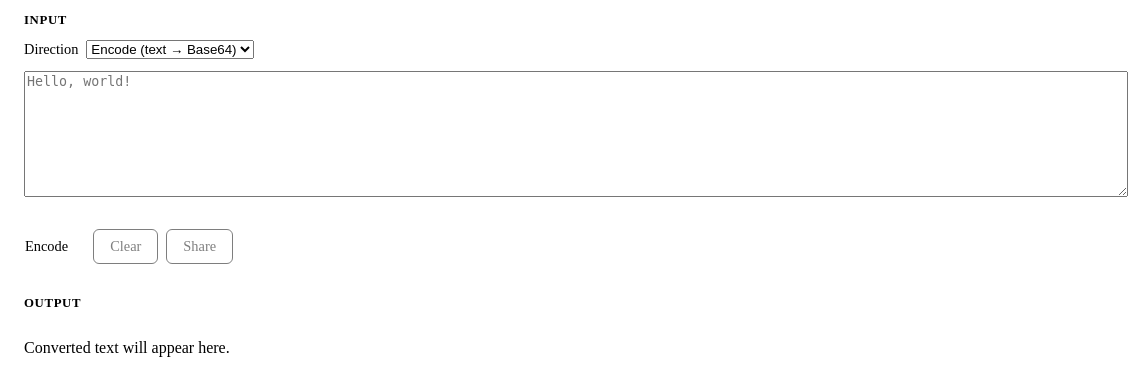
Test: Base64CodecTool › clears input and output
The image size is (1145, 392).
Type "Hello" into the text box named "Base64 input" at (576, 134), box top-left (24, 71), bottom-right (1128, 197)
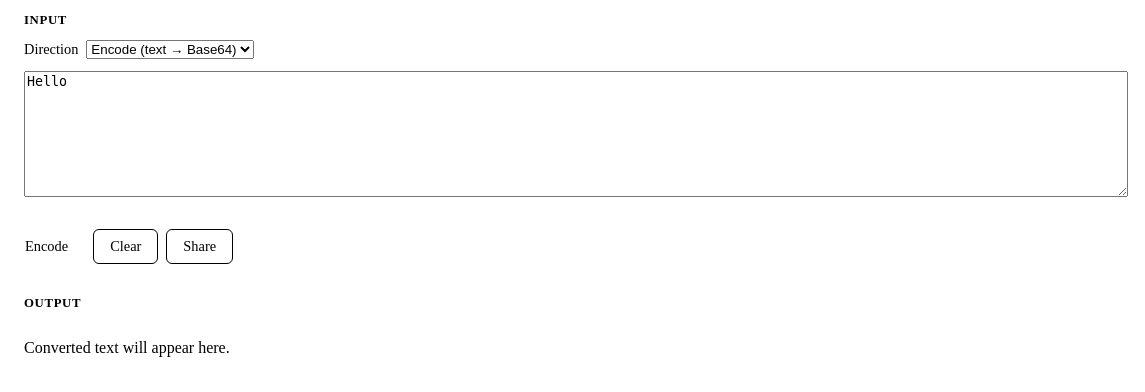
Click the button "Encode" at (47, 246), box top-left (8, 229), bottom-right (85, 264)
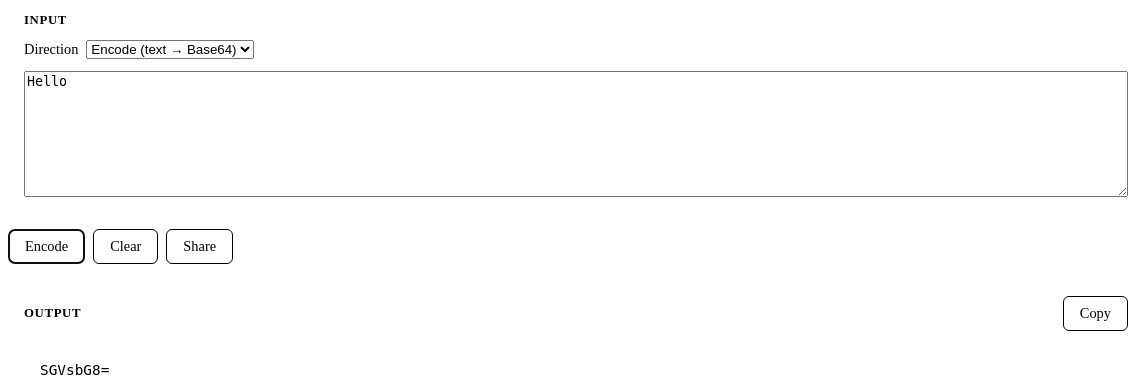
Click the button "Clear" at (126, 246), box top-left (93, 229), bottom-right (158, 264)
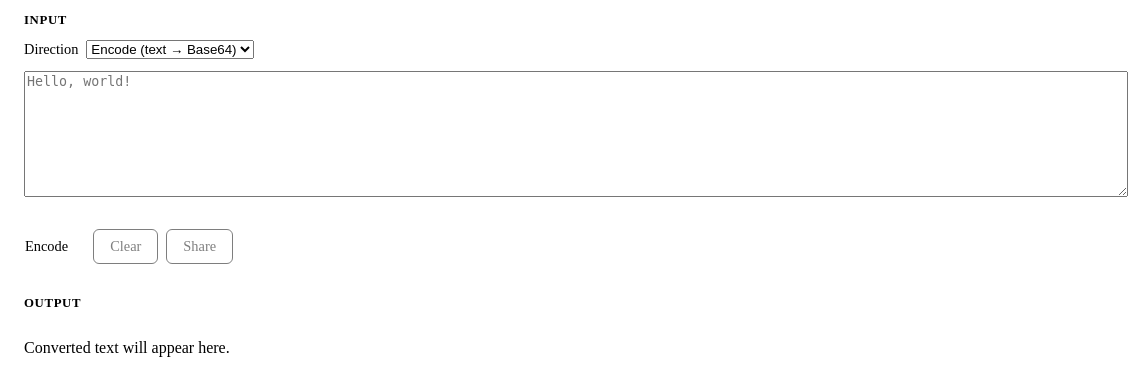
Expected: the text box named "Base64 input" is empty, top-left (24, 71), bottom-right (1128, 197)
Expected: the text "Converted text will appear here." is shown, top-left (24, 339), bottom-right (230, 356)
